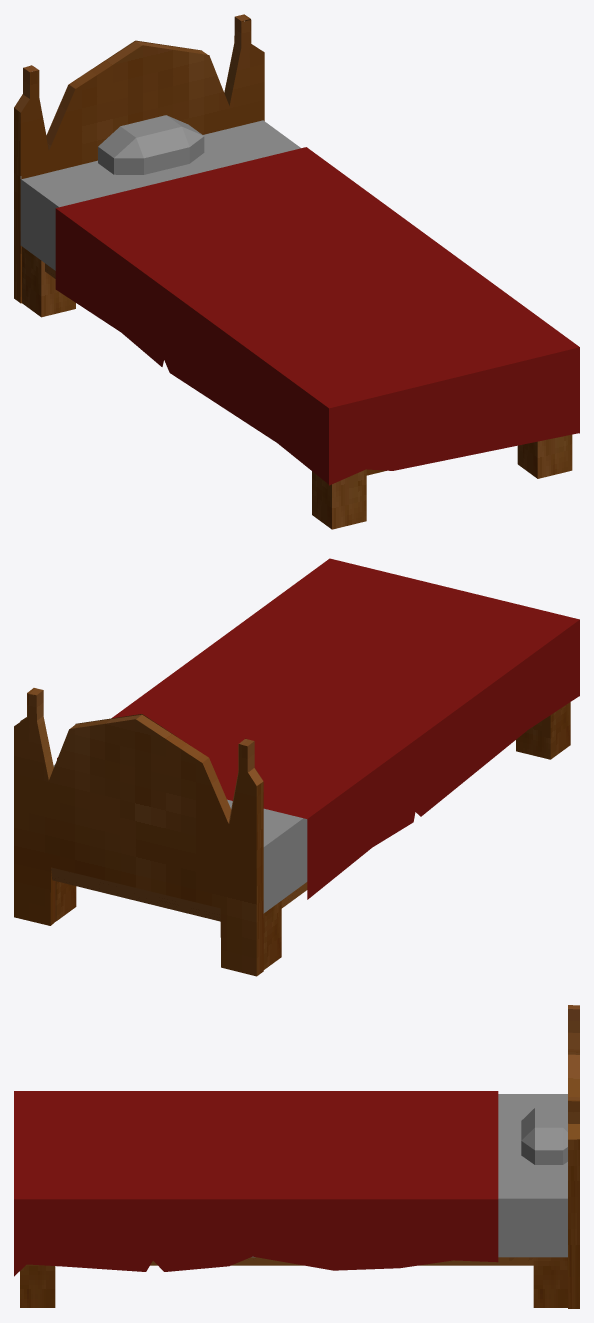
The model's file is OnePersonBed1.glb.
3 views of the same model, one above another, from view 1: azimuth 30°, elevation 25°; view 2: azimuth 150°, elevation 25°; view 3: azimuth 270°, elevation 25° (orthographic). The views are drawn at different scales.
Visible parts, largest first — view 1: Plane, Cube.005, Cube, Cube.006, Cube.002, Cube.004, Cube.001; view 2: Plane, Cube.005, Cube, Cube.002, Cube.004, Cube.003; view 3: Plane, Cube, Cube.005, Cube.006, Cube.003, Cube.001.
Boxes of the visible parts, x1=… form: Plane: x1=55, y1=147, x2=579, y2=485; Cube.005: x1=14, y1=14, x2=386, y2=475; Cube: x1=20, y1=120, x2=300, y2=270; Cube.006: x1=98, y1=115, x2=204, y2=174; Cube.002: x1=312, y1=469, x2=366, y2=529; Cube.004: x1=22, y1=246, x2=75, y2=317; Cube.001: x1=517, y1=434, x2=572, y2=478; Plane: x1=57, y1=558, x2=579, y2=899; Cube.005: x1=14, y1=688, x2=307, y2=976; Cube: x1=53, y1=765, x2=307, y2=913; Cube.002: x1=516, y1=702, x2=570, y2=759; Cube.004: x1=263, y1=901, x2=281, y2=969; Cube.003: x1=55, y1=881, x2=76, y2=921; Plane: x1=14, y1=1091, x2=498, y2=1276; Cube: x1=251, y1=1094, x2=567, y2=1257; Cube.005: x1=150, y1=1005, x2=579, y2=1308; Cube.006: x1=521, y1=1107, x2=567, y2=1164; Cube.003: x1=533, y1=1257, x2=567, y2=1307; Cube.001: x1=20, y1=1264, x2=55, y2=1307.
Size of the model in its own units: 0.8705 by 0.7599 by 1.92.
3 materials, 1 textured.
